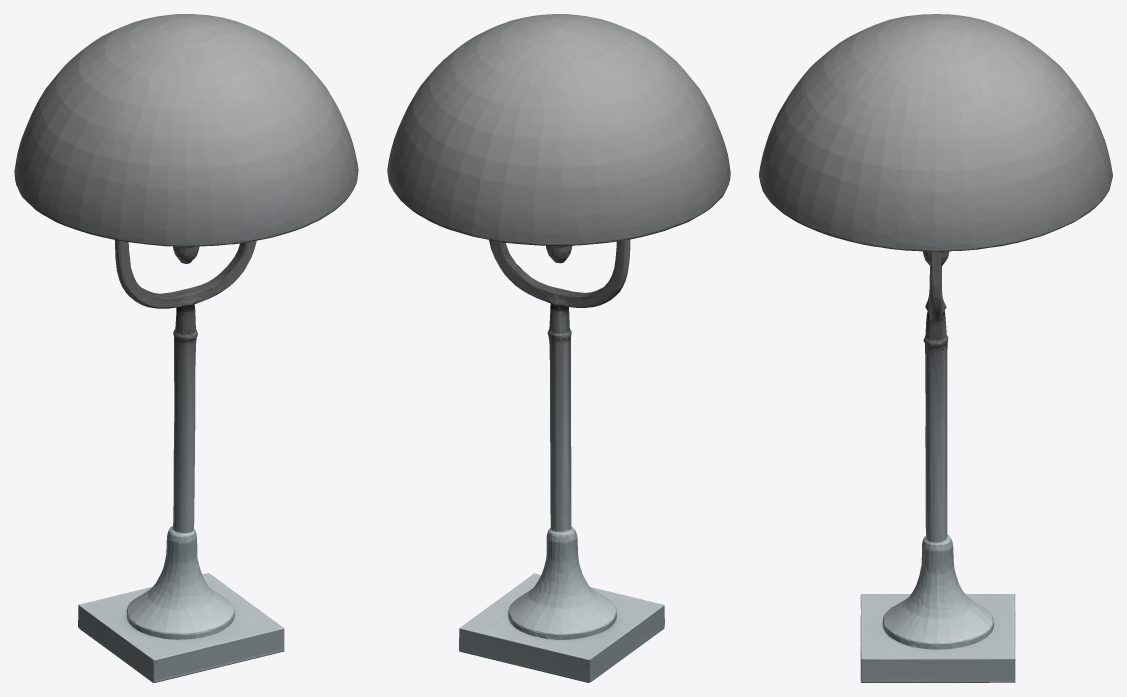
The model's file is VoxHammer.glb.
The picture shows the model from 3 angles, left to right: view 1: azimuth 30°, elevation 25°; view 2: azimuth 150°, elevation 25°; view 3: azimuth 270°, elevation 25°; orthographic projection. The views are drawn at different scales.
Parts seen in each view (by area): view 1: world; view 2: world; view 3: world.
Part boxes in pixels (x1=…): world: x1=14, y1=14, x2=358, y2=682; world: x1=387, y1=14, x2=730, y2=682; world: x1=759, y1=14, x2=1112, y2=682.
Bounding box in the file's own units: 0.3351 × 0.6503 × 0.3346.
Materials: 1 (1 with a texture image).
